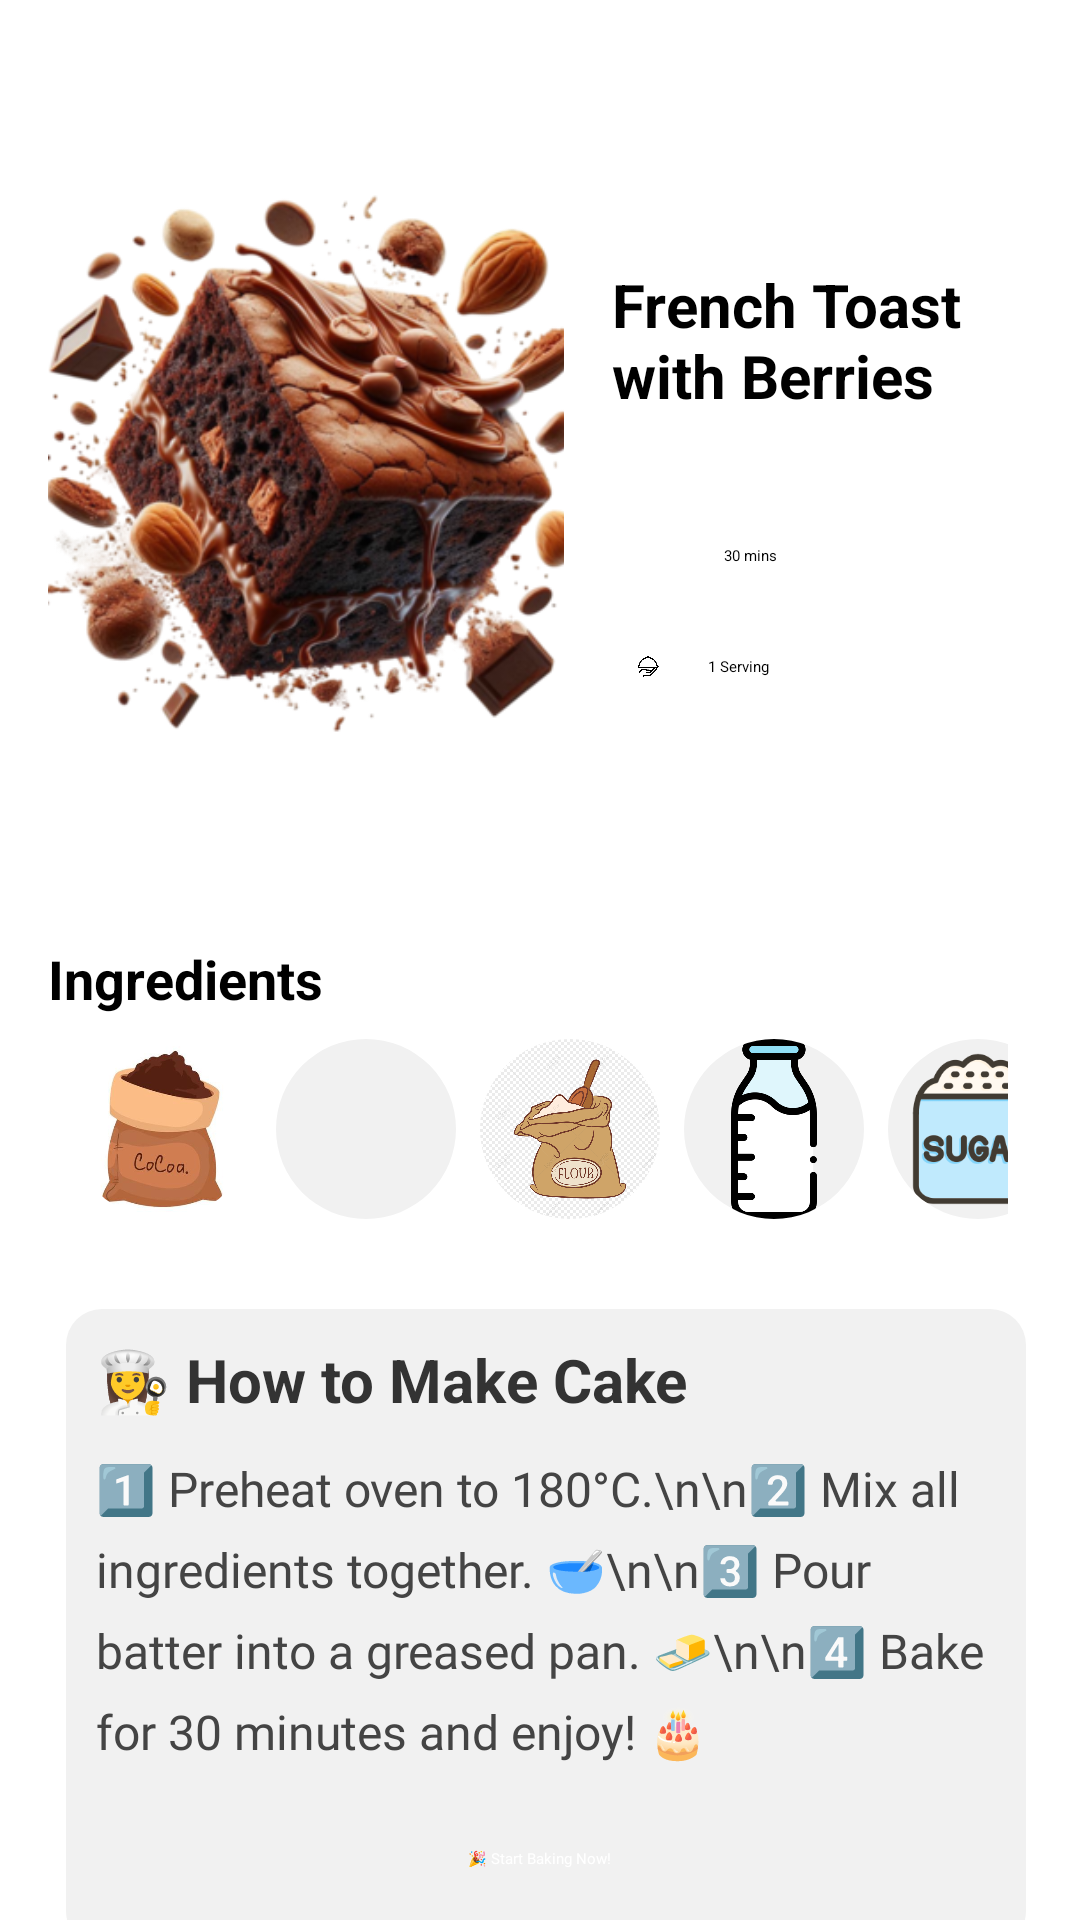

Named icons in this screenshot (1080w x 1920h) and their centers, (x=x, y=y):
milk: (x=774, y=1129)
